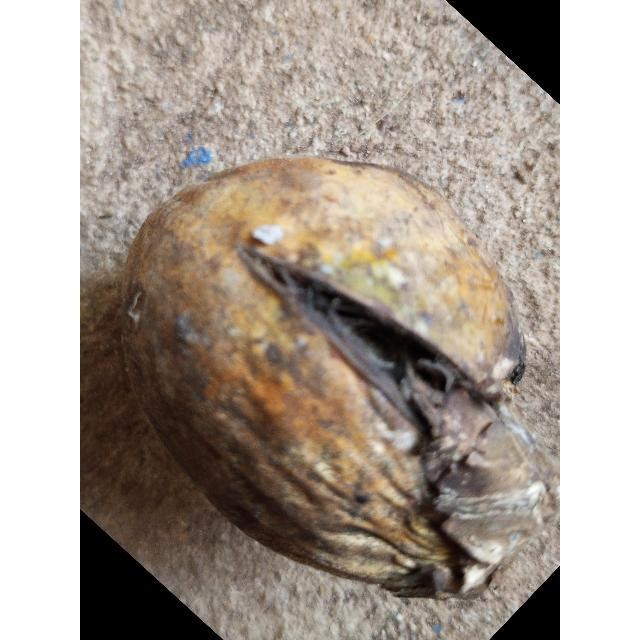damaged: (122, 157, 559, 598)
